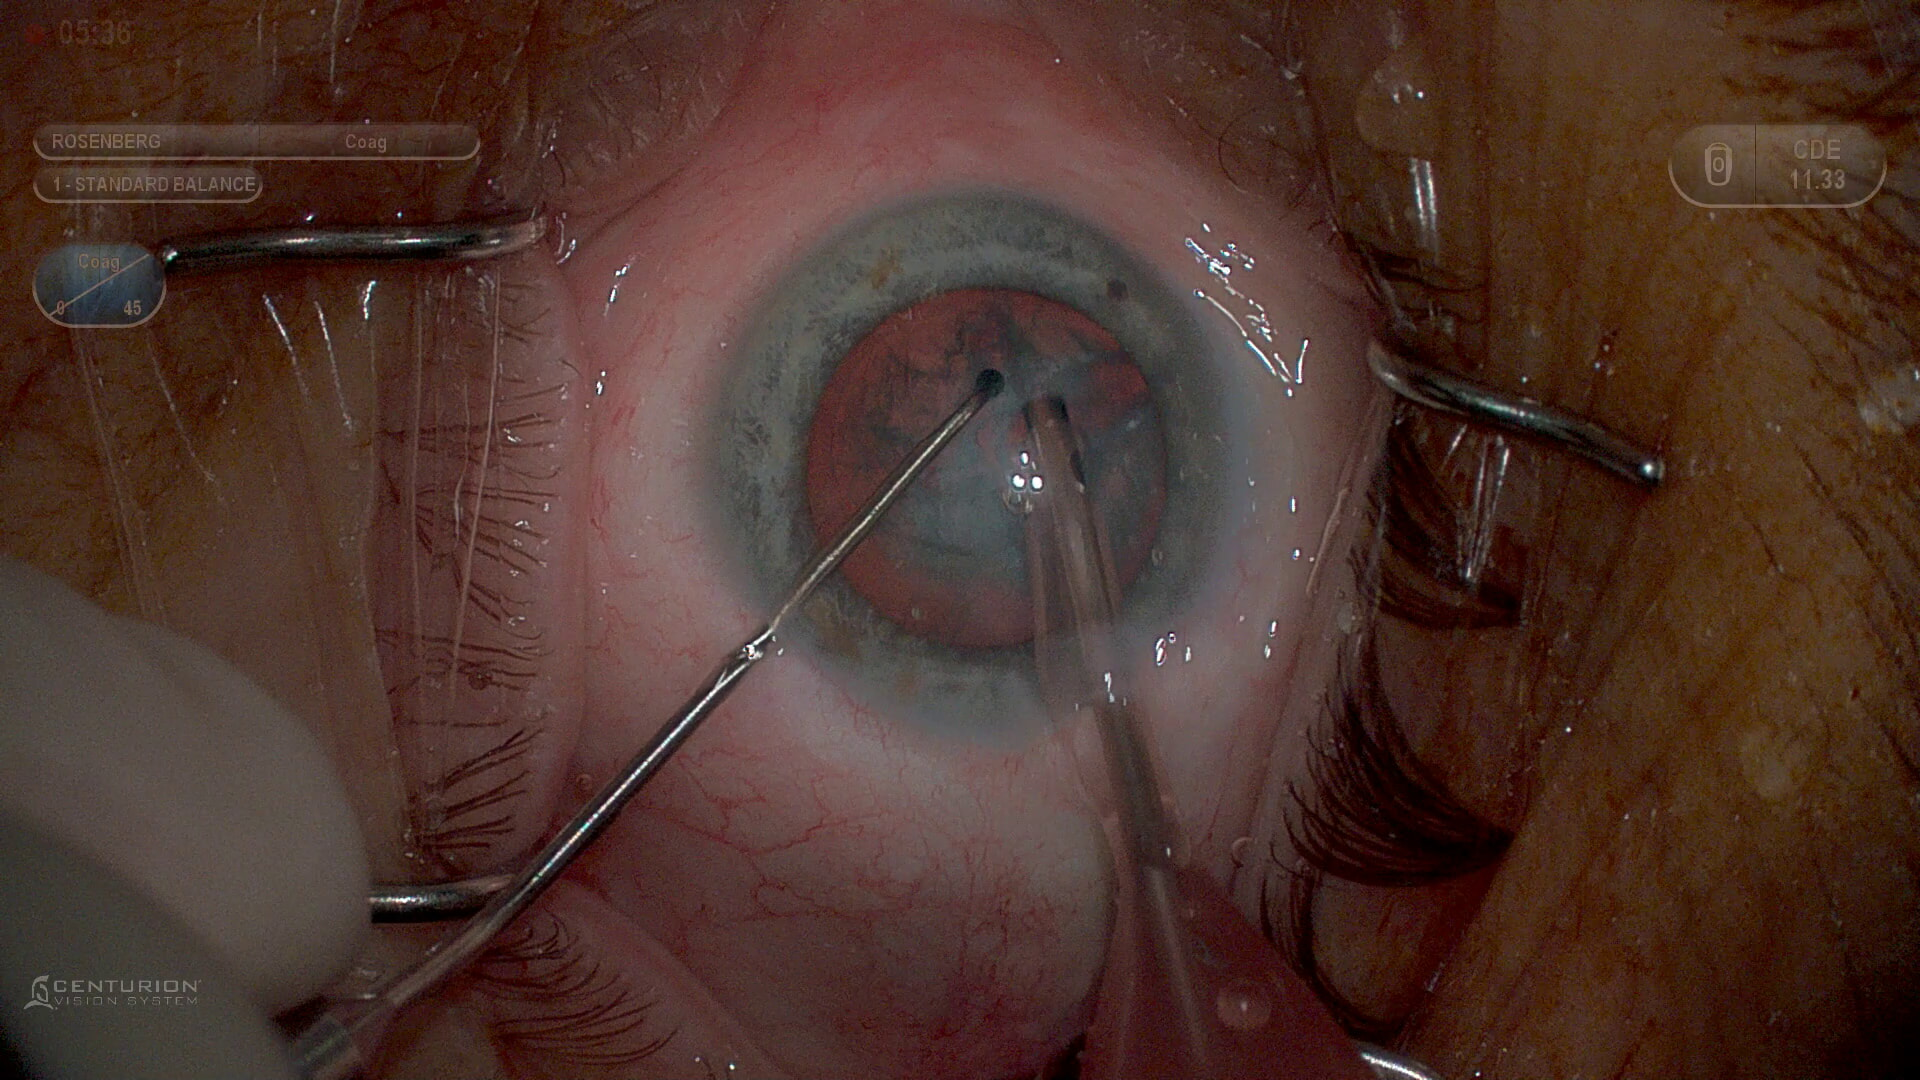iris: (725, 194, 1230, 719)
pupil: (801, 289, 1176, 653)
